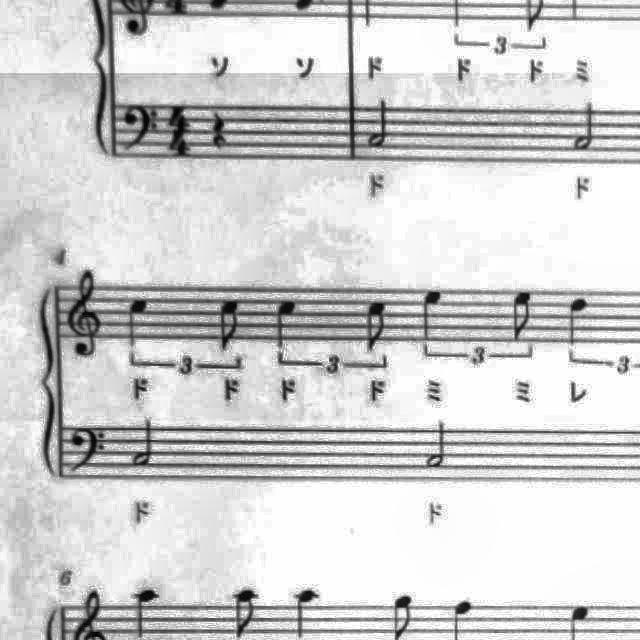Bass-clef: (64, 417, 112, 479), (118, 102, 164, 162)
Eighth-note: (210, 292, 248, 356), (505, 285, 541, 349), (358, 294, 394, 356), (385, 588, 423, 640), (225, 587, 262, 640)
Half-note: (360, 94, 398, 154), (568, 97, 604, 157), (420, 417, 456, 475), (127, 416, 163, 472)
Quarter-note: (287, 583, 327, 640), (122, 291, 158, 354), (268, 293, 304, 353), (414, 284, 450, 344), (558, 290, 594, 350), (128, 582, 164, 638)
Quarter-rest: (203, 108, 233, 156)
Treble-clef: (62, 266, 108, 366)
